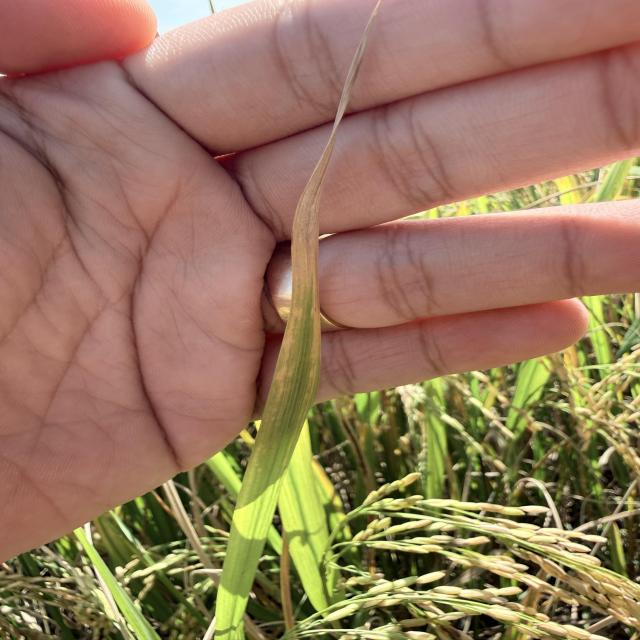Chay bia la: (264, 0, 380, 445)
